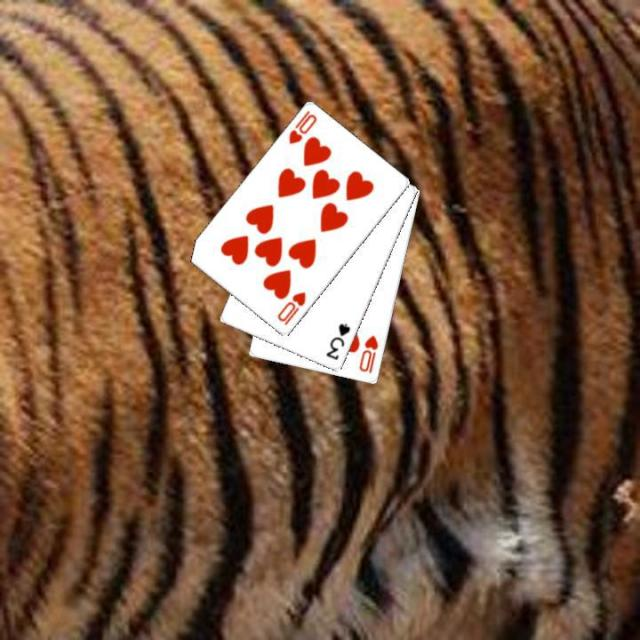10H: (285, 106, 319, 146), (273, 288, 307, 327), (356, 332, 380, 375)
3S: (322, 320, 352, 362)
